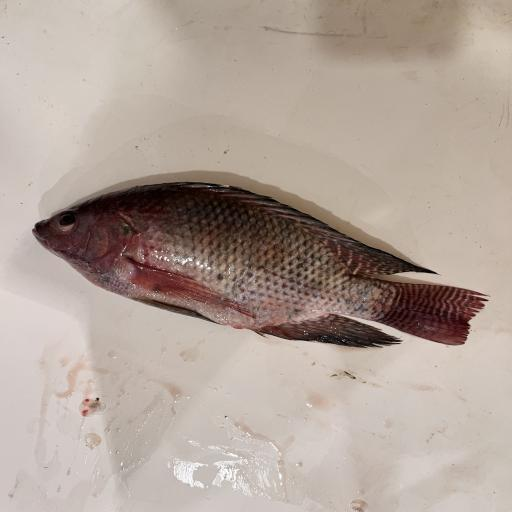Tilapia: (32, 182, 490, 349)
